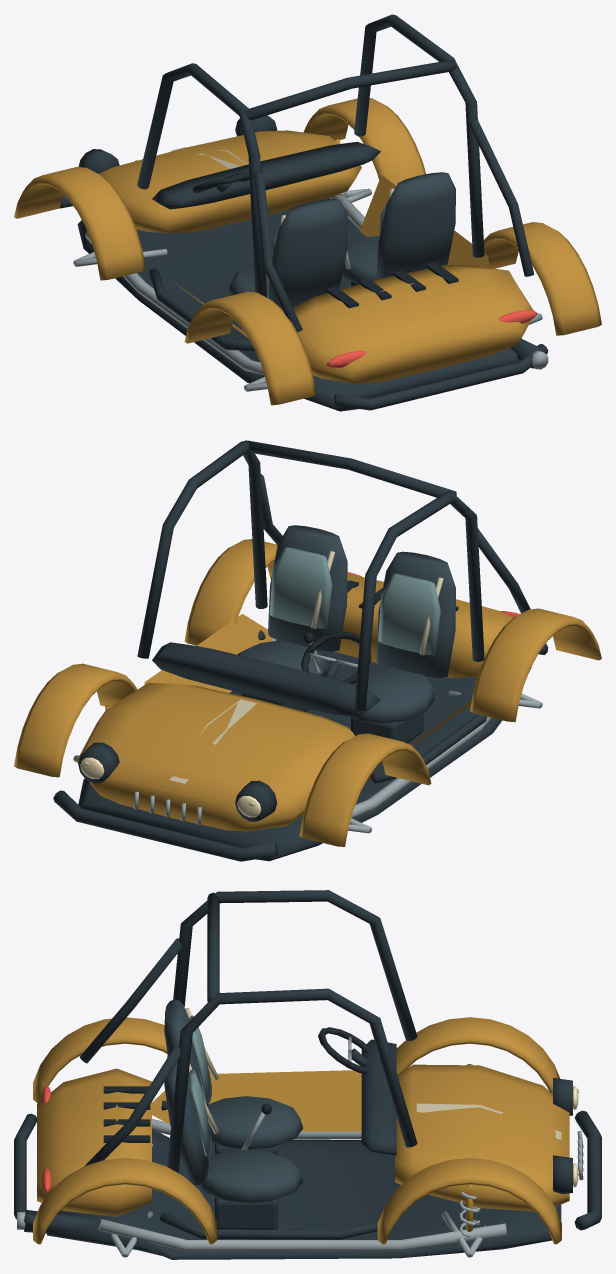
The model's file is VehicleBody.glb.
3 views of the same model, one above another, from view 1: azimuth 30°, elevation 25°; view 2: azimuth 150°, elevation 25°; view 3: azimuth 270°, elevation 25° (orthographic).
Visible parts, largest first — view 1: VehicleBody; view 2: VehicleBody; view 3: VehicleBody.
Part boxes in pixels (bbox=[...]): VehicleBody: bbox=[14, 14, 601, 411]; VehicleBody: bbox=[14, 440, 601, 861]; VehicleBody: bbox=[14, 890, 601, 1259].
Size of the model in its own units: 2.32 by 1.78 by 3.53.
